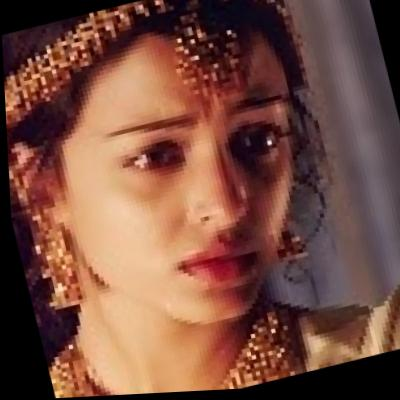sad: (31, 16, 330, 357)
